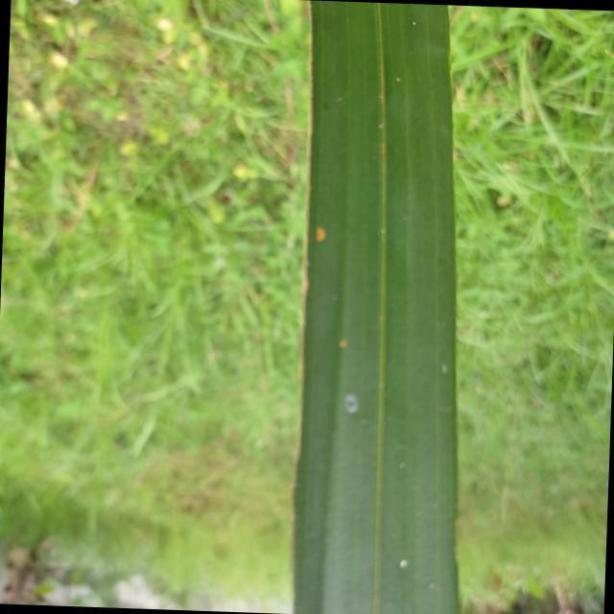Kalium: (300, 0, 459, 614)
